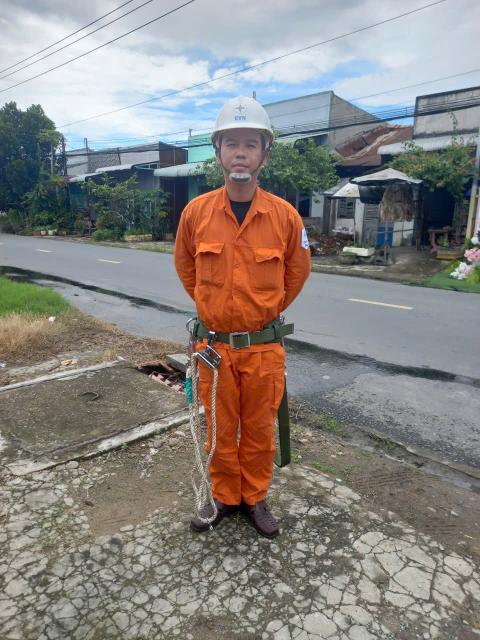harness: (166, 308, 301, 359)
helmet: (203, 91, 283, 147)
shoes: (168, 478, 234, 548), (235, 500, 283, 541)
